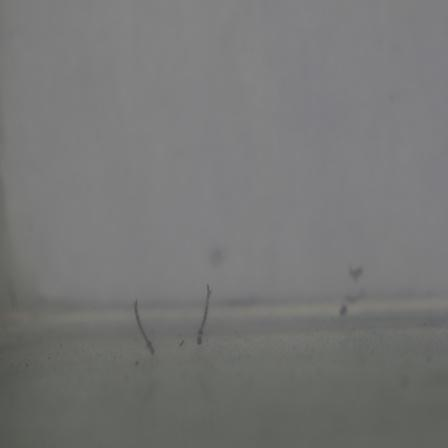Jentik-Nyamuk: (129, 295, 159, 360), (192, 282, 217, 347)
